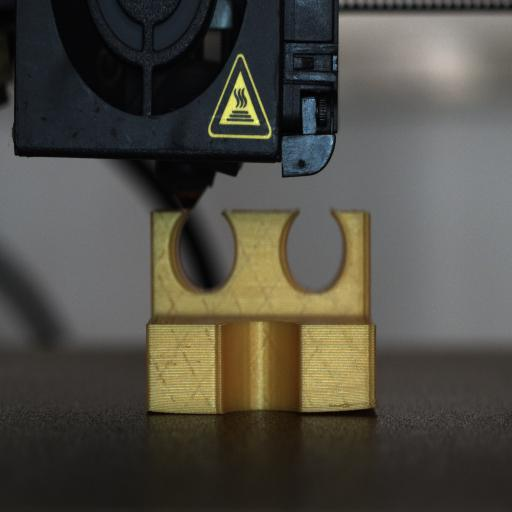warp: (297, 399, 381, 419), (148, 403, 184, 419)
